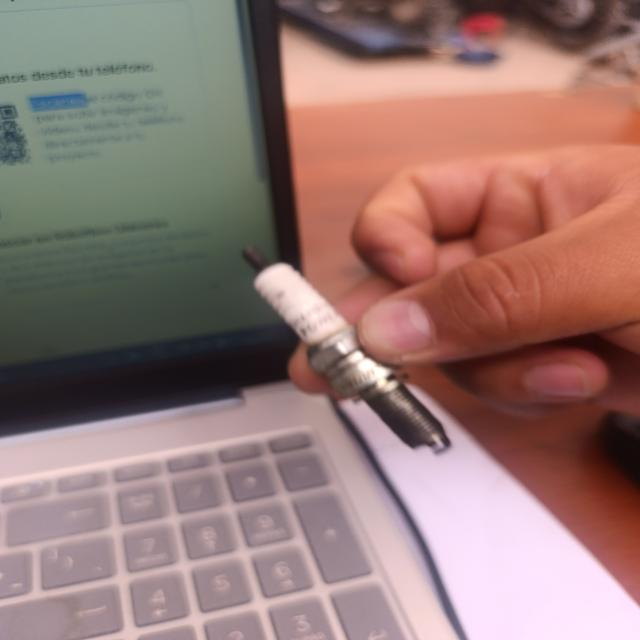bujia: (243, 246, 450, 453)
